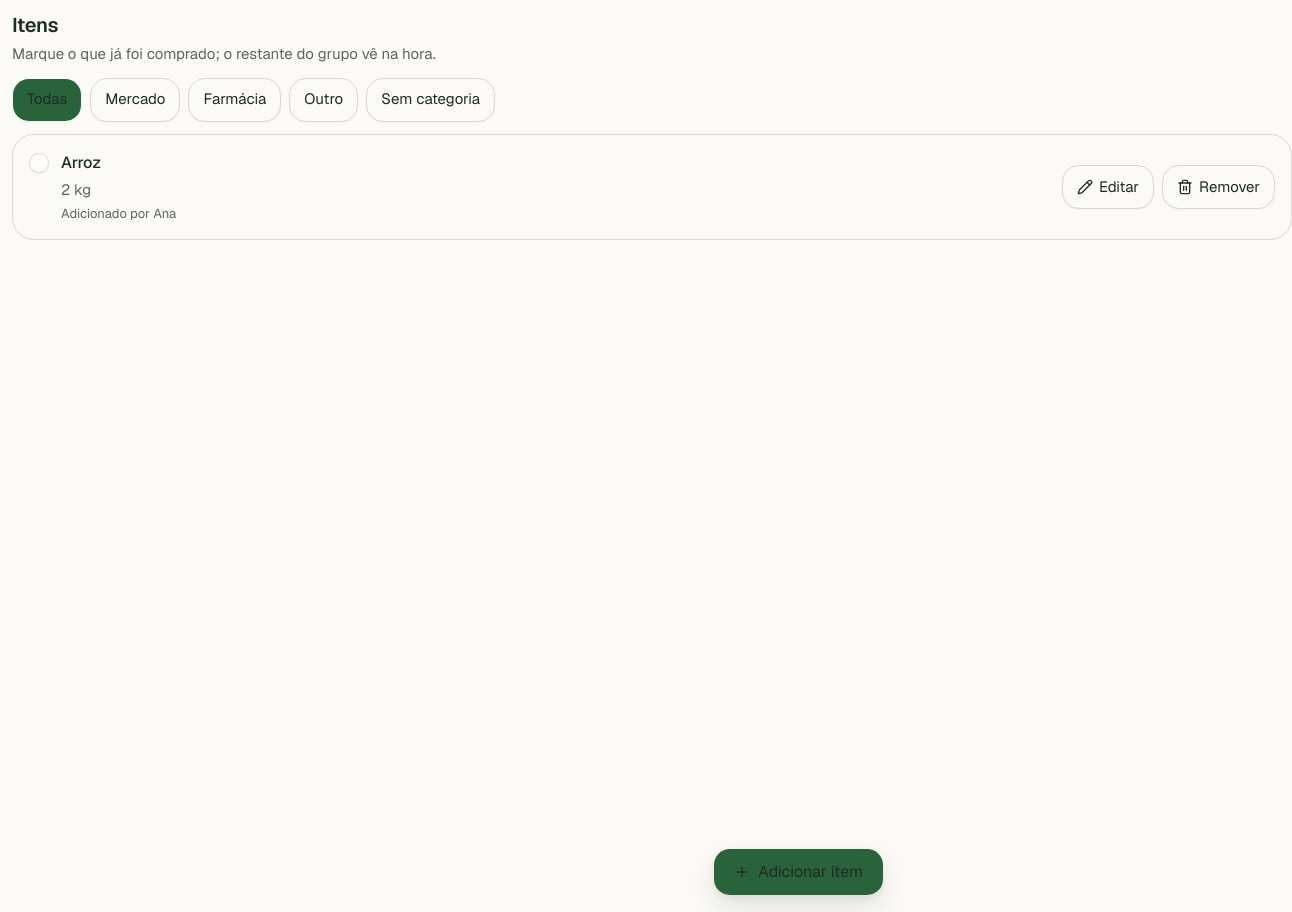
Test: ListItemsPanel › moves an item into Comprados when marked as purchased
Click the checkbox named "Marcar Arroz como comprado" at [39, 162], box [29,152,49,172]
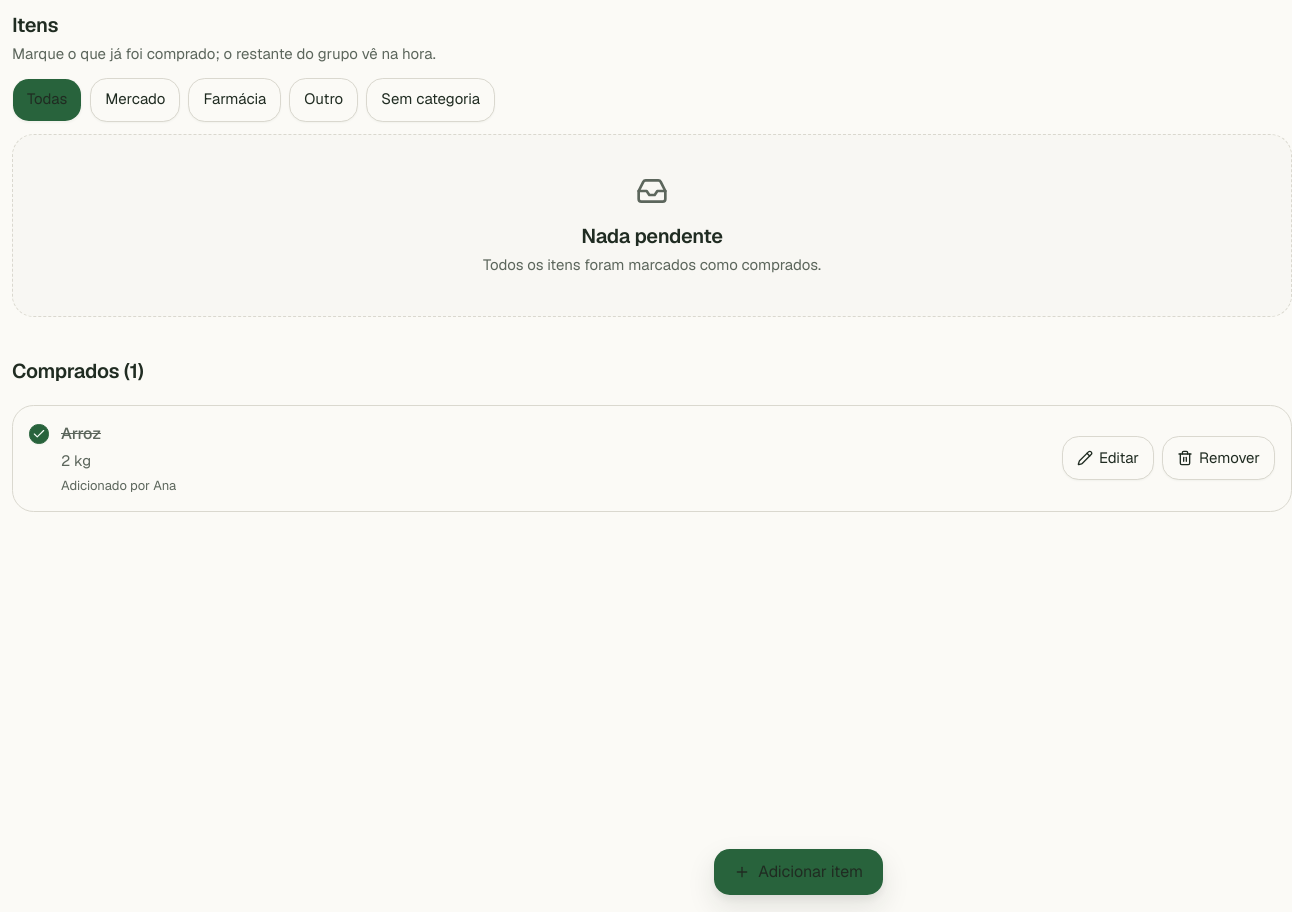
Expected: the heading "Comprados (1)" is shown, [12,358,144,384]
Expected: the checkbox named "Marcar Arroz como pendente" is shown, [29,424,49,444]
